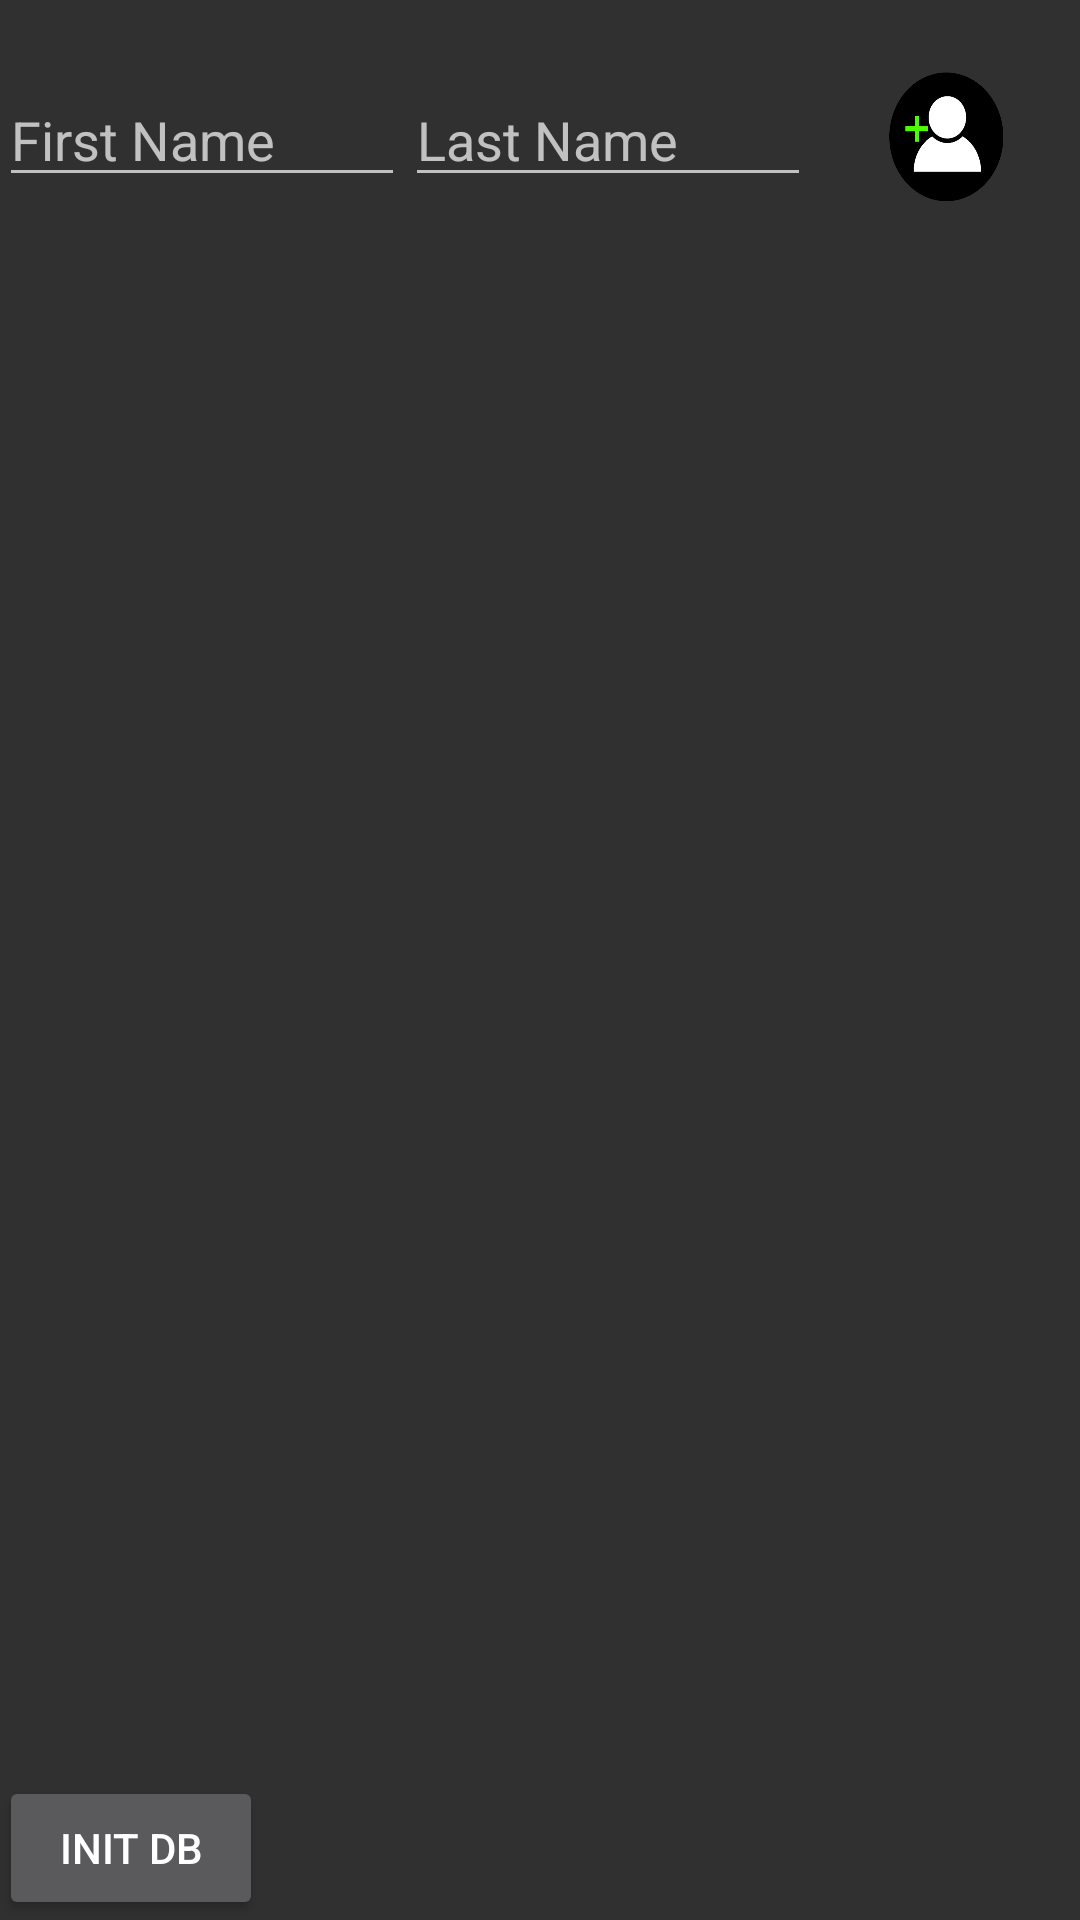

Icon click points for this 1080 x 1920 phone screenshot, format (x,y):
add player: (946,137)
